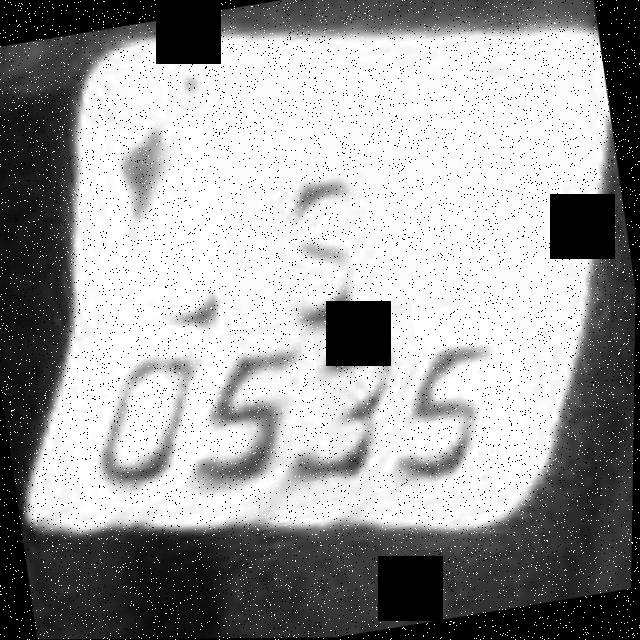0: (59, 320, 233, 514)
3: (231, 302, 440, 515)
5: (348, 297, 536, 494), (157, 323, 337, 506)
J: (81, 118, 244, 351)
